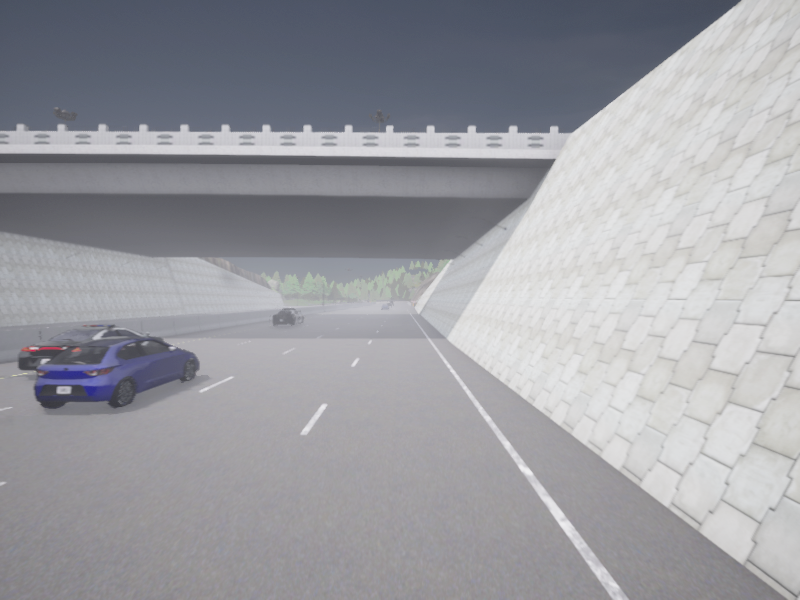vehicle: (34, 337, 199, 407), (18, 325, 163, 372), (273, 308, 303, 325), (382, 304, 389, 309), (387, 303, 391, 306), (390, 301, 393, 305)
